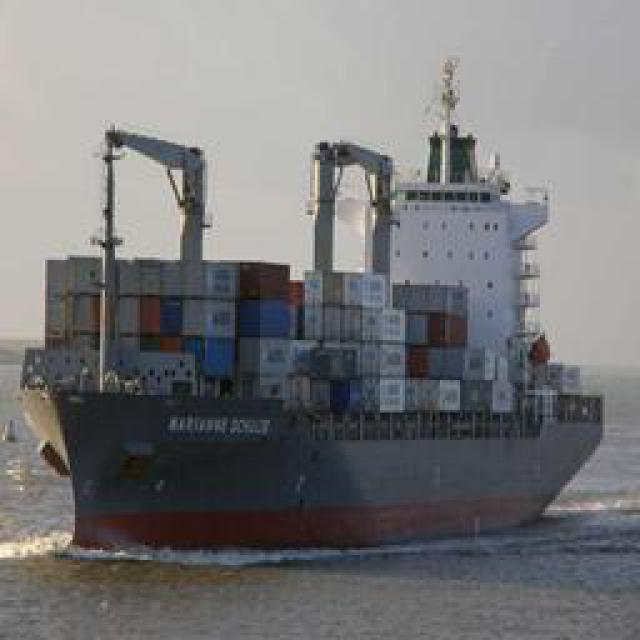Ship: (22, 58, 602, 563)
